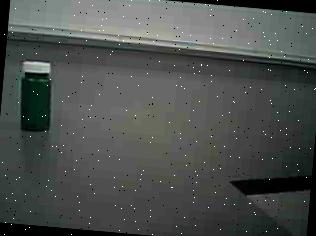Bottle C: (9, 54, 65, 141)
